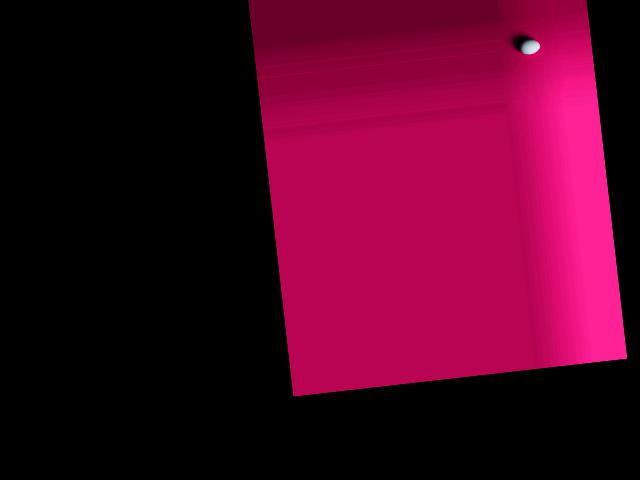egg: (518, 38, 541, 56)
